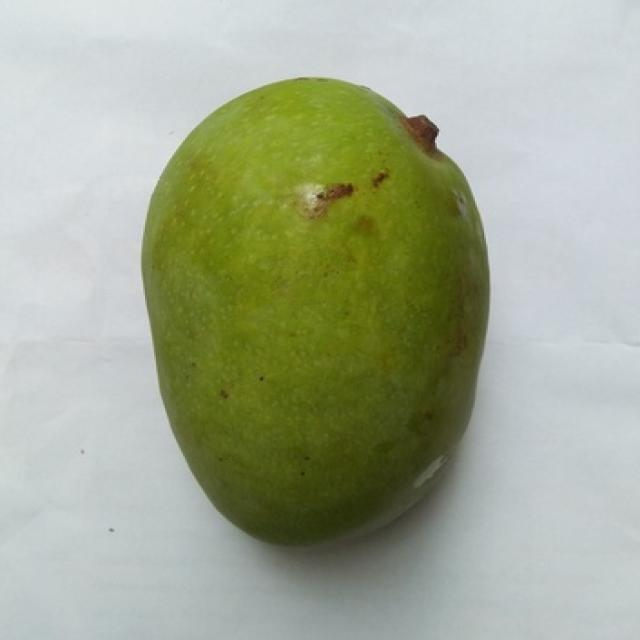Mango: (141, 77, 488, 543)
